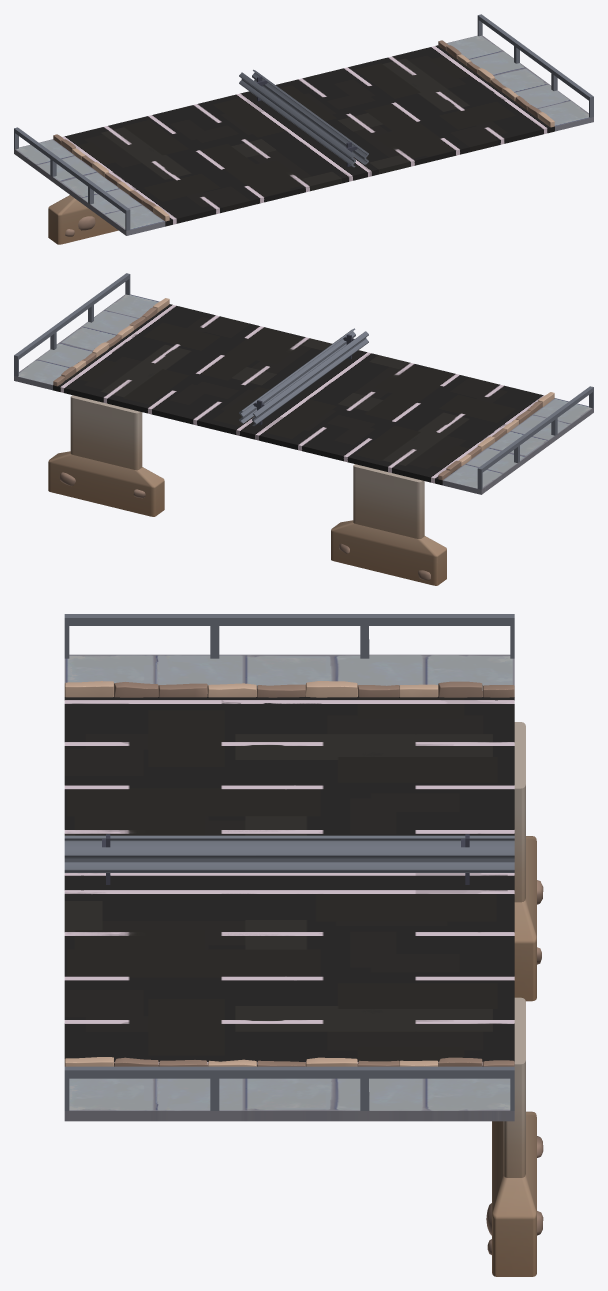
File: CityRoad_8LineBridgeSpan.fbx
The picture shows the model from 3 angles, top to bottom: view 1: azimuth 30°, elevation 25°; view 2: azimuth 150°, elevation 25°; view 3: azimuth 270°, elevation 25°; orthographic projection. The views are drawn at different scales.
Parts seen in each view (by area): view 1: CityRoad_8LineBridgeSpan_mesh; view 2: CityRoad_8LineBridgeSpan_mesh; view 3: CityRoad_8LineBridgeSpan_mesh.
Boxes of the visible parts, x1,y1,x2,y2 form: CityRoad_8LineBridgeSpan_mesh: [14, 14, 593, 244]; CityRoad_8LineBridgeSpan_mesh: [14, 273, 593, 585]; CityRoad_8LineBridgeSpan_mesh: [64, 614, 543, 1276].
Size of the model in its own units: 2400 by 614 by 1064.
